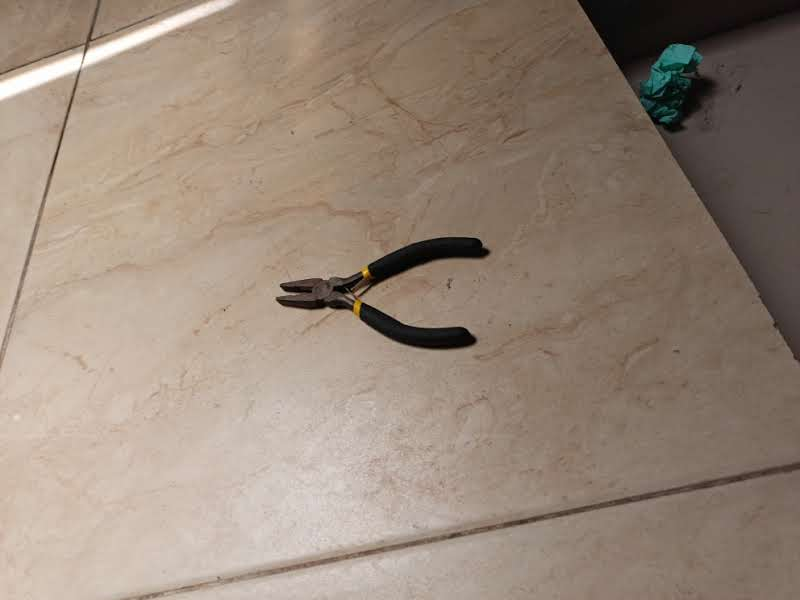Pinzas: (276, 237, 489, 349)
